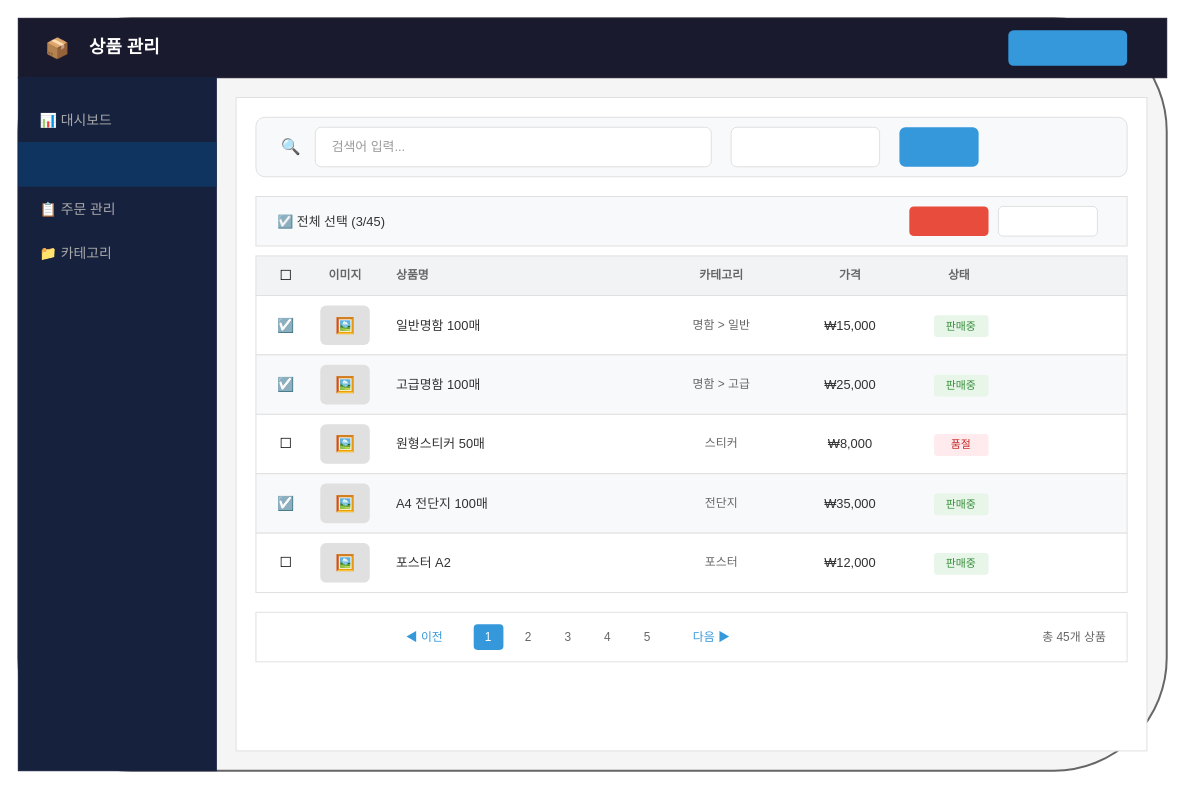
Some shapes in this 1184 by 788 pixel diagram are drawn without their labels. The shapes that lost their labels are listed below. From the top down, each one's centre as x and y in pixels, then its label:
At (x=1067, y=47): "+ 상품 등록".
At (x=117, y=164): "📦 상품 관리".
At (x=805, y=146): "카테고리 ▼".
At (x=938, y=146): "검색".
At (x=948, y=221): "선택 삭제".
At (x=1047, y=220): "카테고리 변경".
